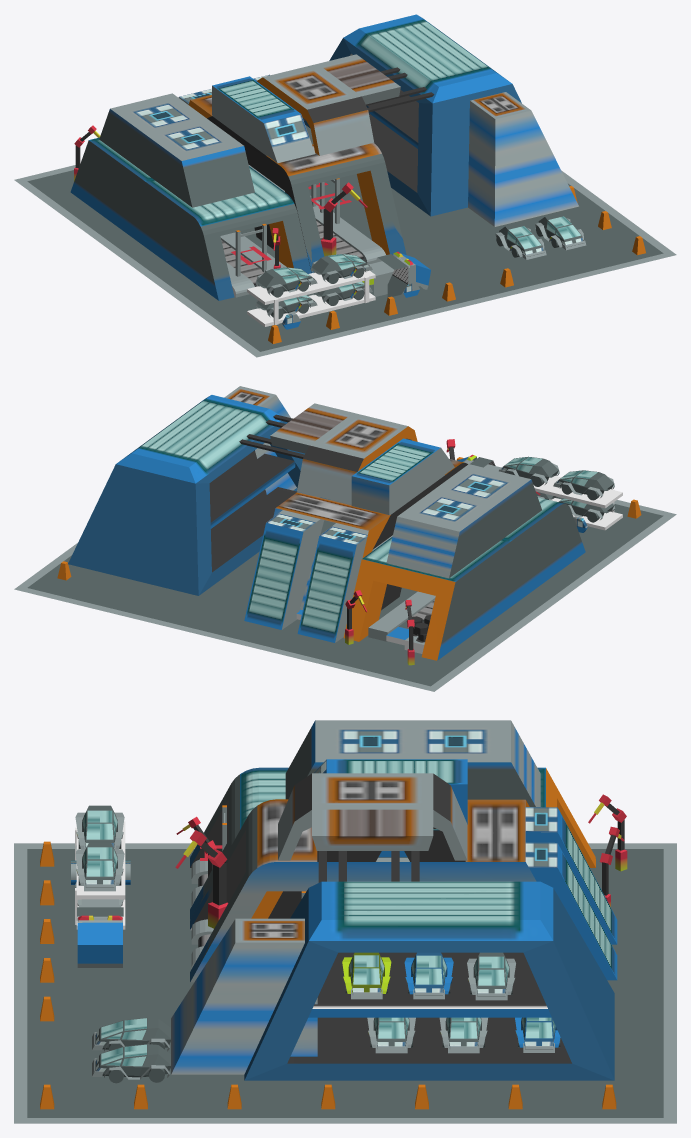
File: automotive_LV2.fbx
The picture shows the model from 3 angles, top to bottom: view 1: azimuth 30°, elevation 25°; view 2: azimuth 150°, elevation 25°; view 3: azimuth 270°, elevation 25°; orthographic projection. The views are drawn at different scales.
Visible parts, largest first — view 1: auto level 2; view 2: auto level 2; view 3: auto level 2.
Boxes of the visible parts, x1=… form: auto level 2: x1=14, y1=14, x2=676, y2=357; auto level 2: x1=14, y1=386, x2=676, y2=691; auto level 2: x1=14, y1=720, x2=676, y2=1123.
Bounding box in the file's own units: 160 × 47.89 × 160.
